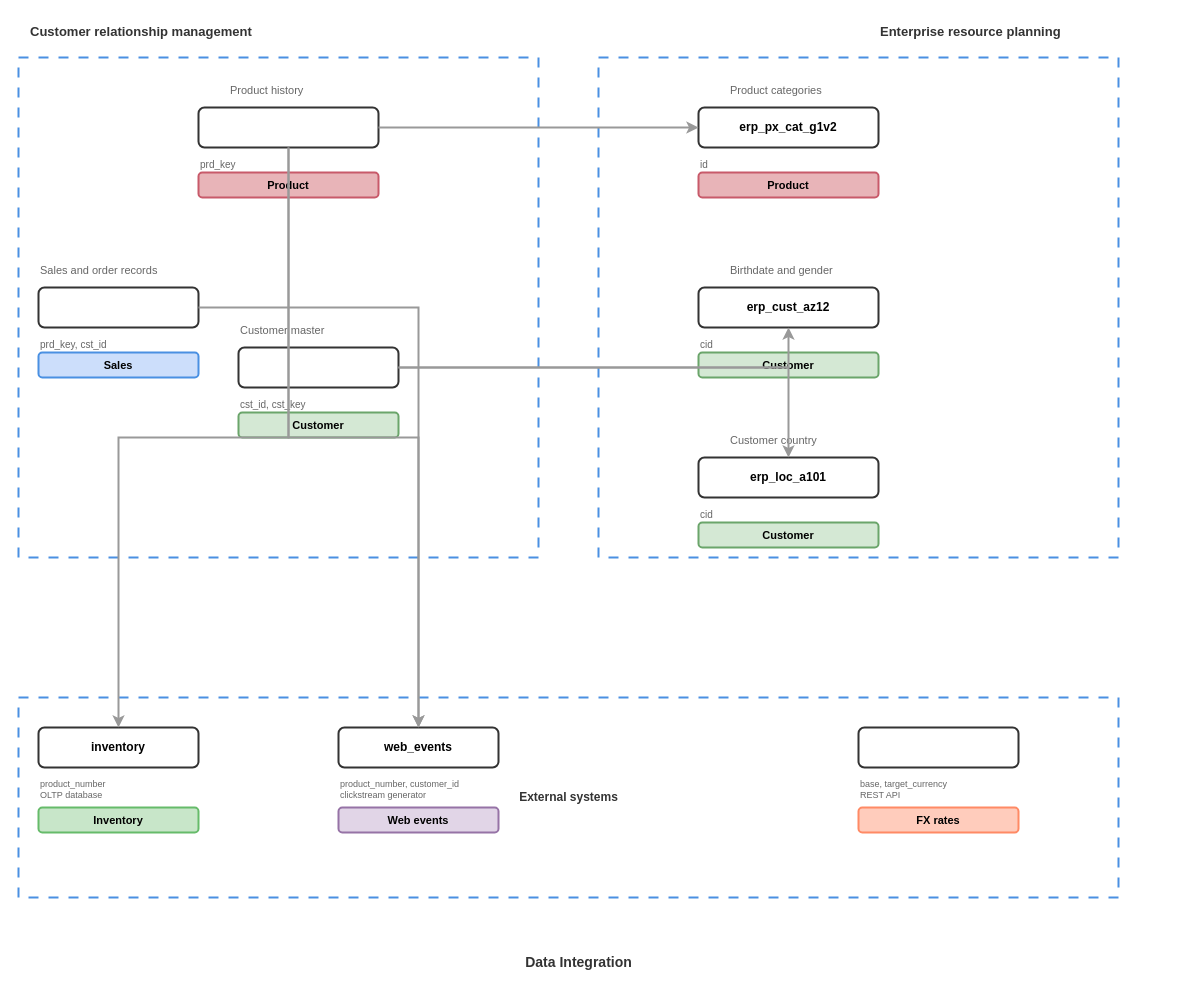
Image size: 1195x994. Some labels were removed from this diagram. Each missing label, with the centre of its shape:
"crm_cust_info" goes at (318,367).
"crm_prd_info" goes at (288,127).
"crm_sales_details" goes at (118,307).
"fx_rates" goes at (938,747).
